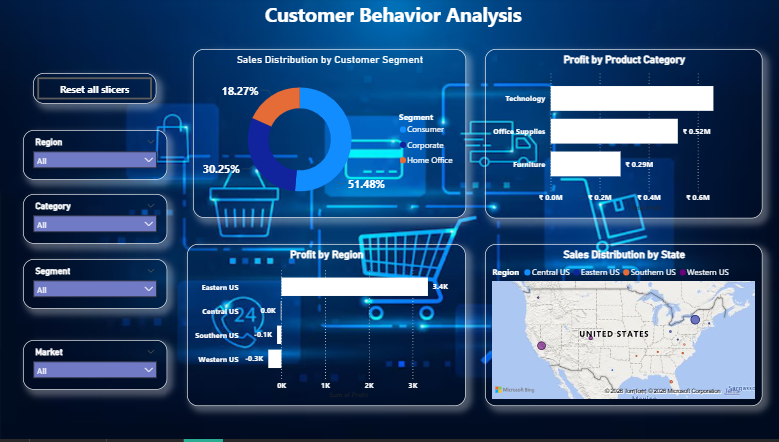

This screenshot's page, from the dashboard's own definition file:
{"tool":"powerbi","page":{"name":"Page 2","canvas":[1280,720],"ordinal":1},"visuals":[{"type":"textbox","box":[0,0,1280.4,61.9],"z":0},{"type":"slicer","fields":{"Values":["Orders.Region"]},"box":[37.5,216.7,234.6,81.5],"z":1000},{"type":"slicer","fields":{"Values":["Orders.Category"]},"box":[37.5,320.9,234.6,81.5],"z":2000},{"type":"slicer","fields":{"Values":["Orders.Segment"]},"box":[37.5,426.8,234.6,81.5],"z":3000},{"type":"slicer","fields":{"Values":["Orders.Market"]},"box":[37.5,558.7,234.6,81.5],"z":4000},{"type":"donutChart","title":"Sales Distribution by Customer Segment","fields":{"Y":["Orders.Total Sales"],"Category":["Orders.Segment"]},"box":[314.4,84.7,444.7,275.3],"z":5000},{"type":"actionButton","box":[54.1,123.6,200.8,50.2],"z":6000},{"type":"clusteredBarChart","title":"Profit by Product Category","fields":{"Category":["Orders.Category"],"Y":["Orders.Total Profit"]},"box":[790,84,452,276],"z":7000},{"type":"clusteredBarChart","title":"Profit by Region","fields":{"Category":["Orders.Region"],"Y":["Sum(Orders.Profit)"]},"box":[304,402,454,264],"z":8000},{"type":"map","title":"Sales Distribution by State","fields":{"Series":["Orders.Region"],"Category":["Orders.State"],"Size":["Sum(Orders.Sales)"]},"box":[790,402,452,264],"z":9000}]}

Visuals, with their boxes in screenshot pixels (x1, y1, x2, y2), scaled from the page's 1280x720 canvas onto the 779x442 screenshot:
textbox: x1=0 y1=0 x2=778 y2=38
slicer - Orders.Region: x1=23 y1=133 x2=166 y2=183
slicer - Orders.Category: x1=23 y1=197 x2=166 y2=247
slicer - Orders.Segment: x1=23 y1=262 x2=166 y2=312
slicer - Orders.Market: x1=23 y1=343 x2=166 y2=393
"Sales Distribution by Customer Segment" donutChart: x1=191 y1=52 x2=462 y2=221
actionButton: x1=33 y1=76 x2=155 y2=107
"Profit by Product Category" clusteredBarChart: x1=481 y1=52 x2=756 y2=221
"Profit by Region" clusteredBarChart: x1=185 y1=247 x2=461 y2=409
"Sales Distribution by State" map: x1=481 y1=247 x2=756 y2=409
